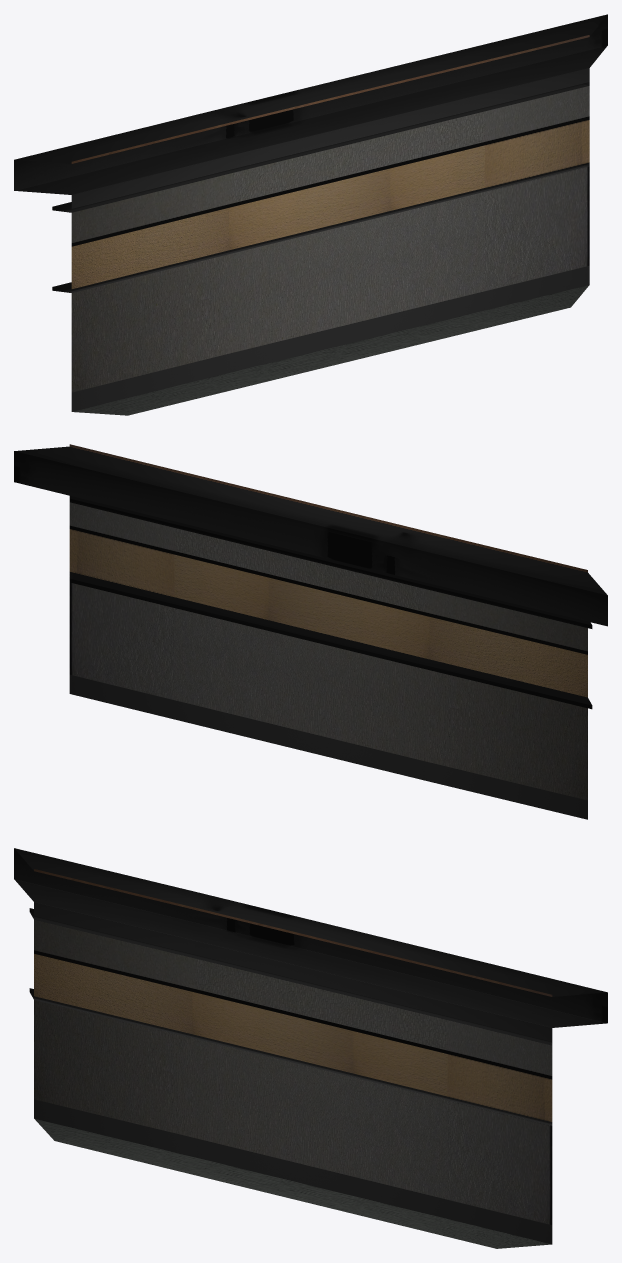
Rendered from projector wall.obj.
The picture shows the model from 3 angles, top to bottom: view 1: azimuth 30°, elevation 25°; view 2: azimuth 150°, elevation 25°; view 3: azimuth 330°, elevation 25°; orthographic projection.
Parts seen in each view (by area): view 1: Plane.015_Plane.018; view 2: Plane.015_Plane.018; view 3: Plane.015_Plane.018.
Boxes of the visible parts, bbox=[...] form: Plane.015_Plane.018: bbox=[14, 14, 607, 415]; Plane.015_Plane.018: bbox=[14, 444, 607, 819]; Plane.015_Plane.018: bbox=[14, 848, 607, 1248].
Size of the model in its own units: 8.8 by 3.54 by 0.9528.
6 materials, 6 textured.
